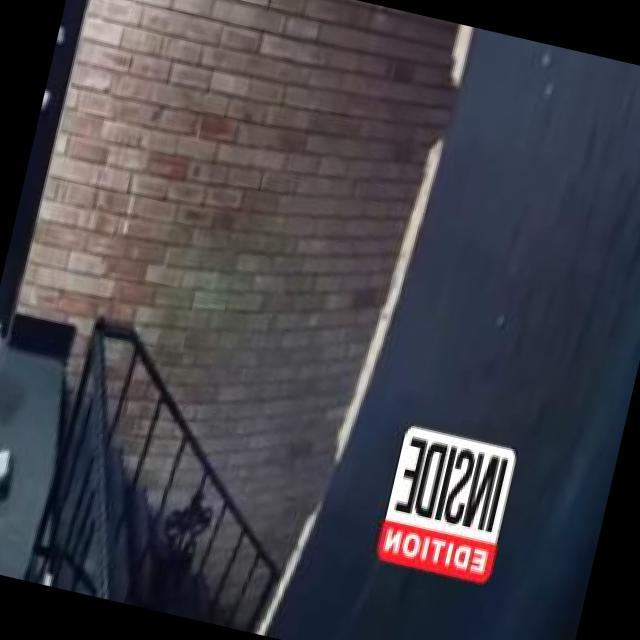Guns: (0, 427, 29, 572)
